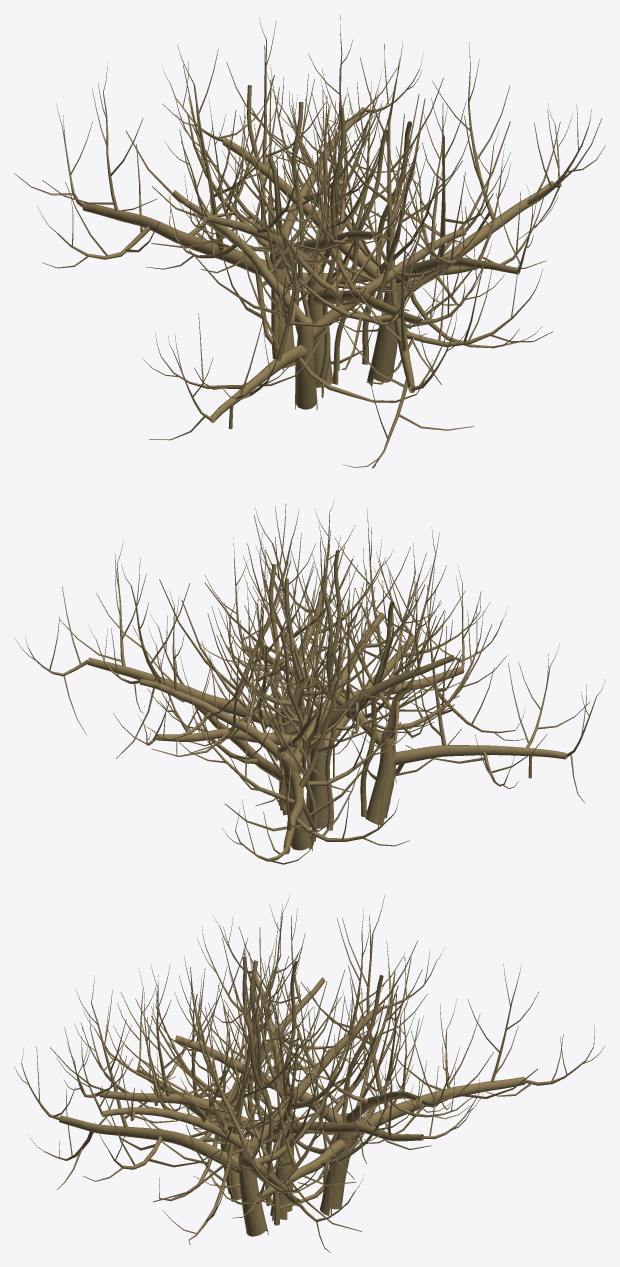
Rendered from Bush_02.fbx.
The picture shows the model from 3 angles, top to bottom: view 1: azimuth 30°, elevation 25°; view 2: azimuth 150°, elevation 25°; view 3: azimuth 270°, elevation 25°; orthographic projection. The views are drawn at different scales.
Parts seen in each view (by area): view 1: Foliage002; view 2: Foliage002; view 3: Foliage002.
Part boxes in pixels (x1=…): Foliage002: x1=14, y1=14, x2=605, y2=468; Foliage002: x1=14, y1=498, x2=605, y2=864; Foliage002: x1=14, y1=894, x2=605, y2=1252.
Size of the model in its own units: 187 by 116 by 205.
